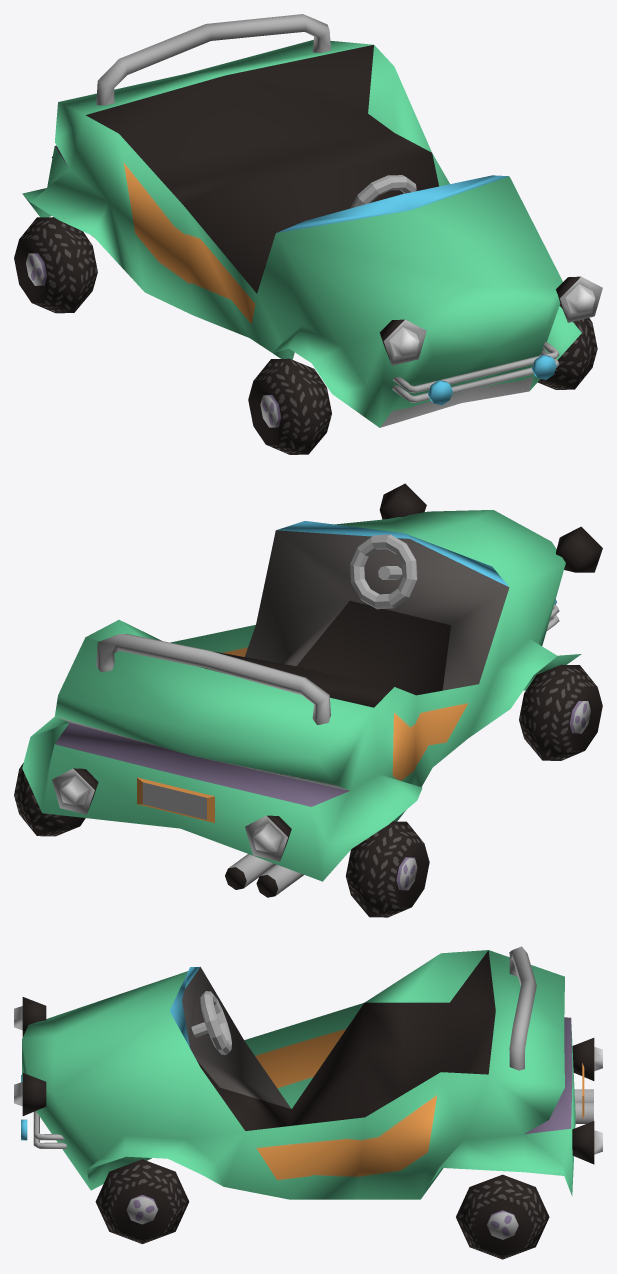
Rendered from car.dae.
3 renders of one model, top to bottom at view 1: azimuth 30°, elevation 25°; view 2: azimuth 150°, elevation 25°; view 3: azimuth 270°, elevation 25°, orthographic. The views are drawn at different scales.
Parts seen in each view (by area): view 1: body; view 2: body; view 3: body.
Part boxes in pixels (x1,y1,x2,y2): body: (14, 14, 602, 454); body: (14, 483, 602, 917); body: (14, 946, 602, 1259).
Size of the model in its own units: 5.13 by 7.79 by 3.06.
Materials: 4 (2 with a texture image).
